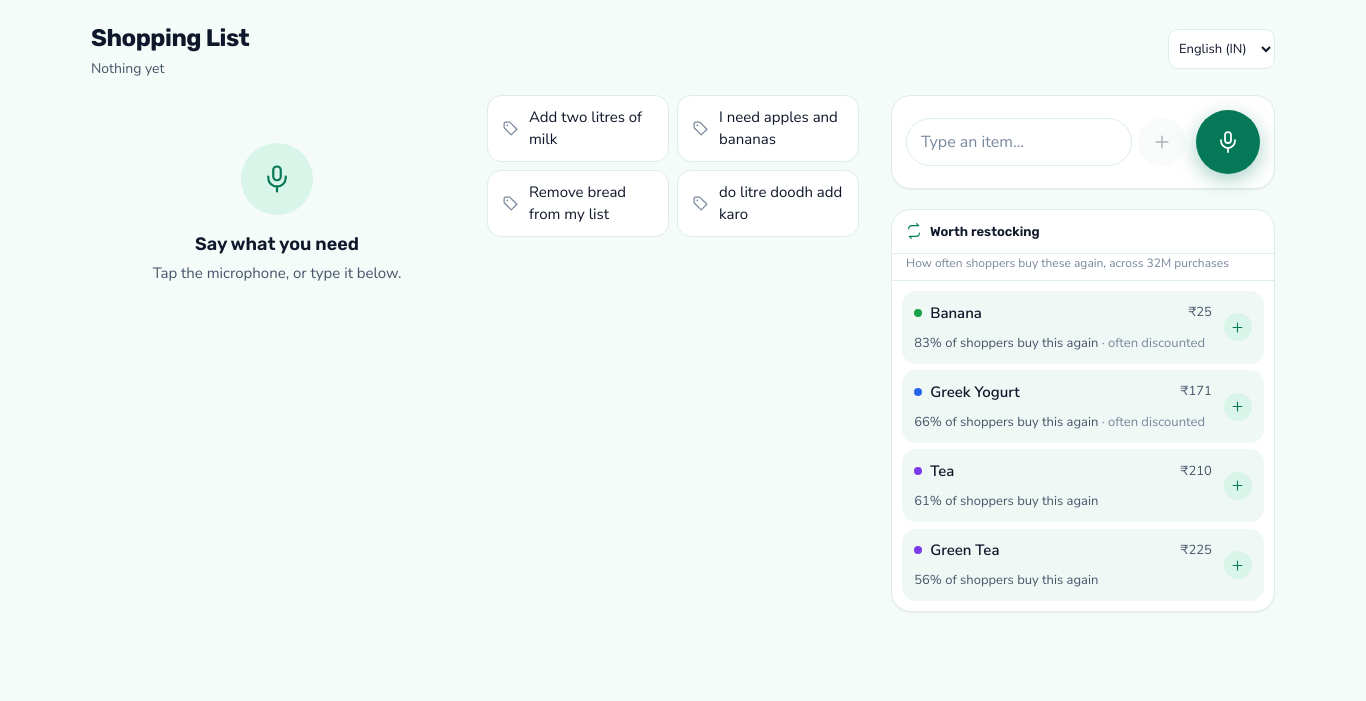
voice search › reports an empty result set plainly
Click the button named "Start listening" at (1228, 142), box [1196, 110, 1260, 174]
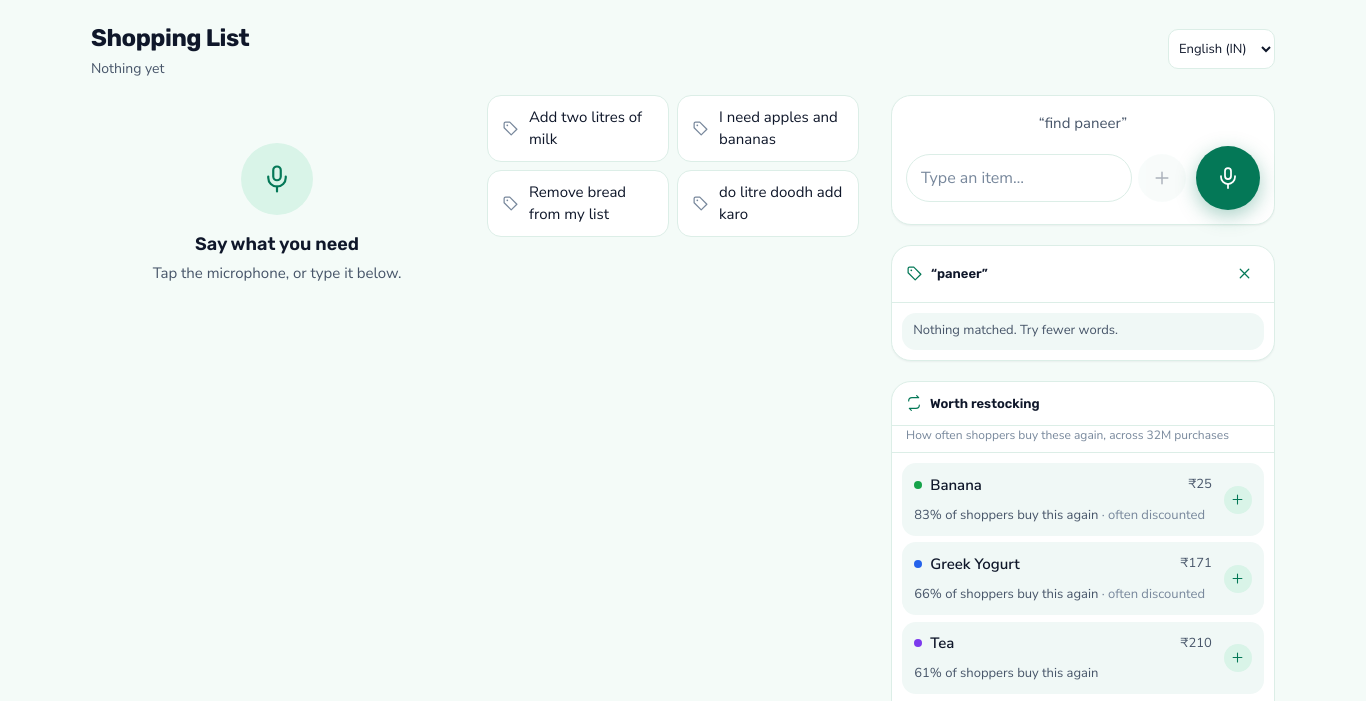
Expected: the text "Nothing matched. Try fewer words." is shown, [902, 313, 1264, 350]
